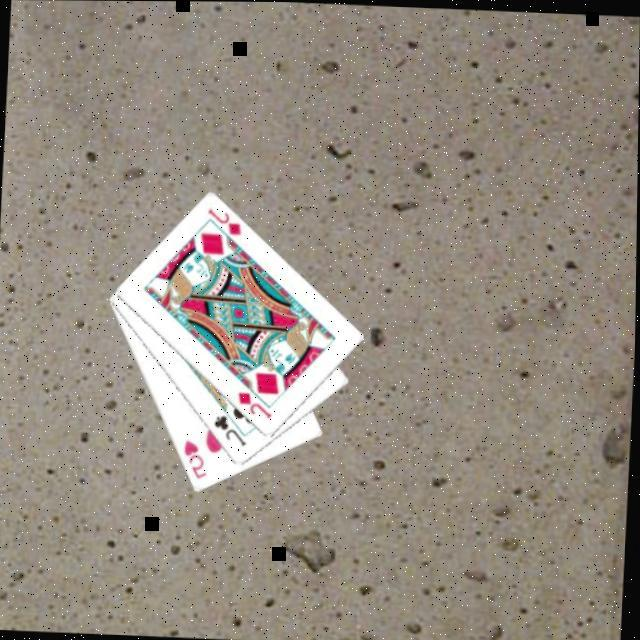5H: (178, 435, 211, 480)
JC: (209, 409, 250, 446)
JD: (233, 386, 275, 419), (202, 202, 244, 235)
